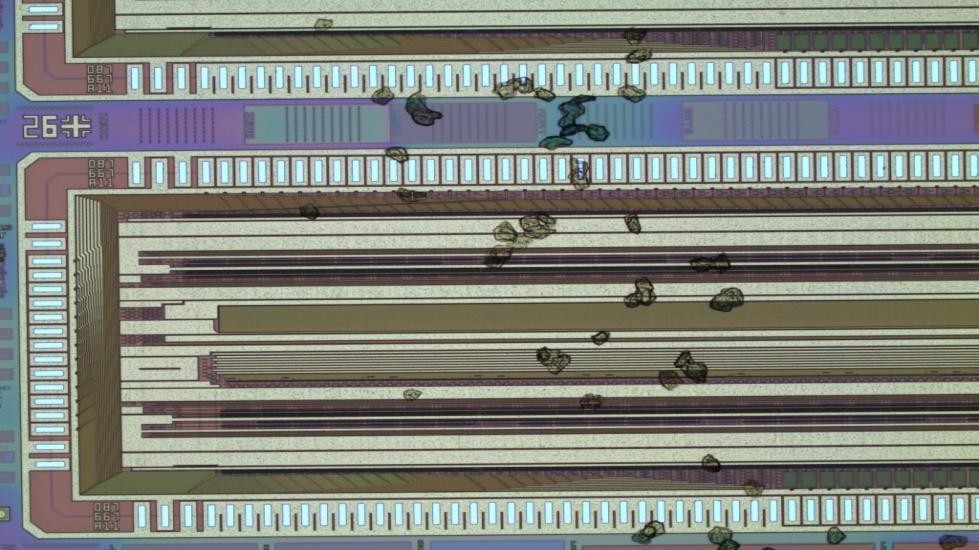PO CONTAMINATION: (294, 10, 974, 550)
